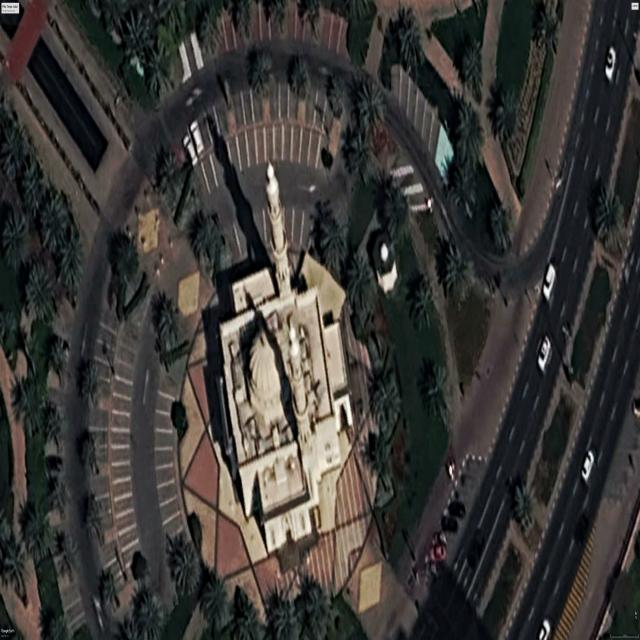mosque: (220, 163, 352, 552)
